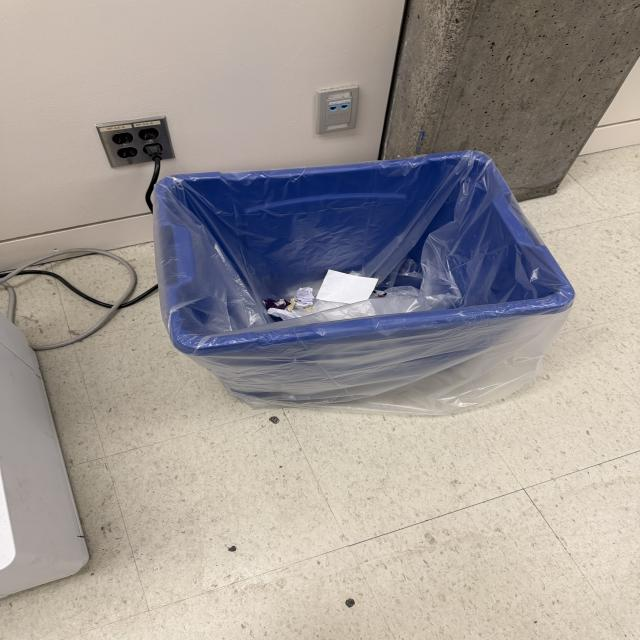Dustbin: (153, 148, 578, 401)
